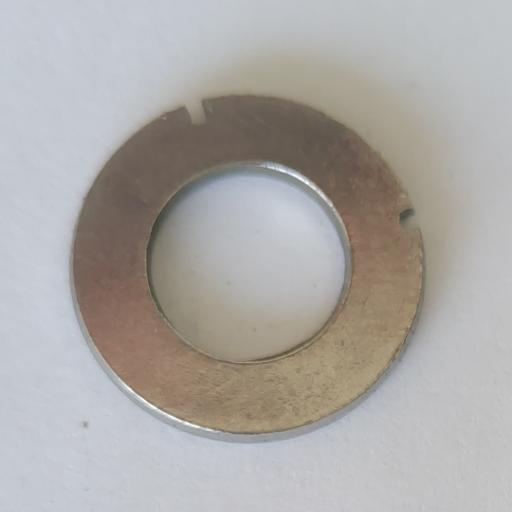burr: (184, 97, 210, 127), (398, 208, 420, 234)
